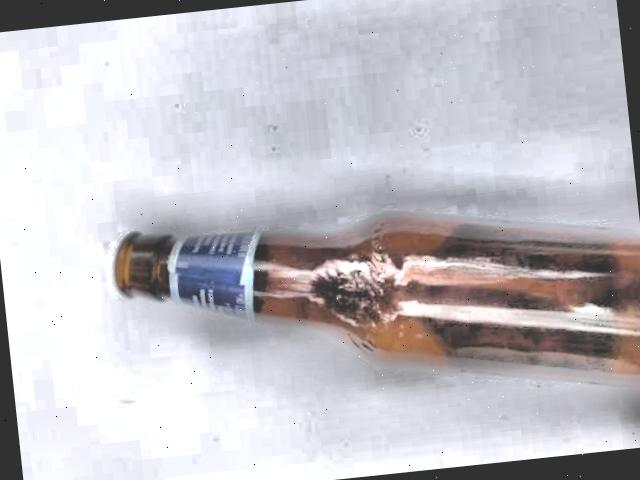Bottles: (99, 147, 640, 470)
